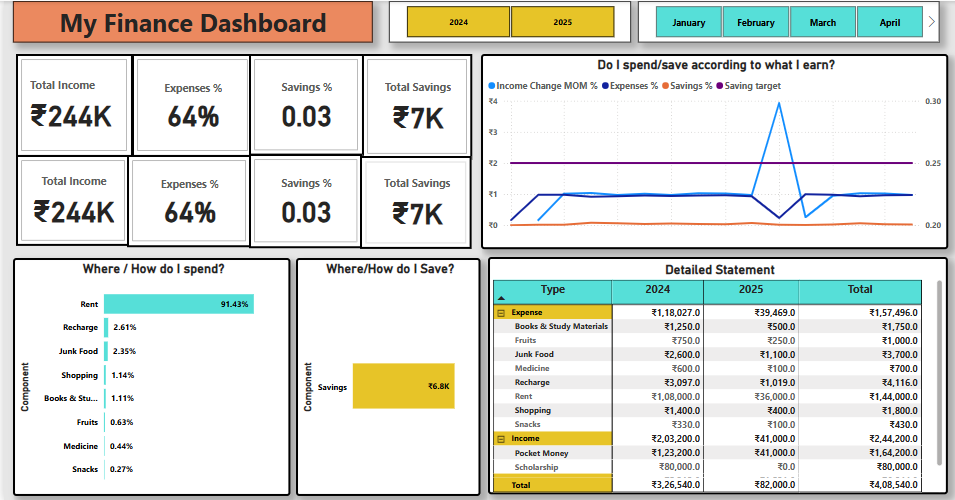

What the dashboard file says about the page in this screenshot:
{"tool":"powerbi","page":{"name":"main","canvas":[1427,744],"ordinal":0},"visuals":[{"type":"cardVisual","fields":{"Data":["findata.Total Income"]},"box":[13.4,80.7,177.6,153.9],"z":0,"group":"g1"},{"type":"slicer","fields":{"Values":["findata.Year.Variation.Date Hierarchy.Year"]},"box":[575.9,0,362.1,62.4],"z":2000},{"type":"cardVisual","fields":{"Data":["findata.Expenses %"]},"box":[191.3,81,181.5,153.8],"z":2000,"group":"g1"},{"type":"slicer","fields":{"Values":["findata.Year.Variation.Date Hierarchy.Month"]},"box":[948.9,0,451.1,62.4],"z":3000},{"type":"cardVisual","fields":{"Data":["findata.Total Savings"]},"box":[535.2,80.4,165.4,157.6],"z":4000,"group":"g1"},{"type":"barChart","title":"Where / How do I spend?","fields":{"Category":["findata.Component"],"Y":["findata.Total Expenses"]},"box":[14,383.9,415.2,355.9],"z":4000},{"type":"barChart","title":"Where/How do I Save?","fields":{"Category":["findata.Component"],"Y":["findata.Total Savings"]},"box":[437,383.9,276.3,355.9],"z":5000},{"type":"cardVisual","fields":{"Data":["findata.Savings %"]},"box":[372.9,81,166.2,156.9],"z":6000,"group":"g1"},{"type":"lineChart","title":"Do I spend/save according to what I earn?","fields":{"Category":["findata.Date"],"Y":["findata.Income Change MOM %","findata.Expenses %","findata.Savings %"],"Y2":["findata.Saving target"]},"box":[714.2,80.4,686,290.2],"z":6000},{"type":"textbox","box":[13.8,0,538.5,61.5],"z":7000},{"type":"cardVisual","fields":{"Data":["findata.Total Income"]},"box":[13.4,224.3,177.6,143.6],"z":7000,"group":"g1"},{"type":"pivotTable","title":"Detailed Statement","fields":{"Rows":["Oreder table.Type","findata.Component"],"Columns":["findata.Date.Variation.Date Hierarchy.Year"],"Values":["findata.Values"]},"box":[724.2,383.9,675,354],"z":8000},{"type":"group","id":"g1","title":"Group 1","box":[13.4,80.4,687.3,289.6],"z":9000},{"type":"cardVisual","fields":{"Data":["findata.Expenses %"]},"box":[185.8,229.5,186,139.9],"z":9000,"group":"g1"},{"type":"cardVisual","fields":{"Data":["findata.Savings %"]},"box":[367.4,228,169.6,141.4],"z":11000,"group":"g1"},{"type":"cardVisual","fields":{"Data":["findata.Total Savings"]},"box":[533.6,231.7,165.2,138.4],"z":12000,"group":"g1"}]}

Visuals, with their boxes in screenshot pixels (x1, y1, x2, y2), scaled from the page's 1427x744 canvas onto the 955x500 screenshot:
cardVisual - findata.Total Income: crop(9, 54, 128, 158)
slicer - findata.Year.Variation.Date Hierarchy.Year: crop(385, 0, 628, 42)
cardVisual - findata.Expenses %: crop(128, 54, 249, 158)
slicer - findata.Year.Variation.Date Hierarchy.Month: crop(635, 0, 937, 42)
cardVisual - findata.Total Savings: crop(358, 54, 469, 160)
"Where / How do I spend?" barChart: crop(9, 258, 287, 497)
"Where/How do I Save?" barChart: crop(292, 258, 477, 497)
cardVisual - findata.Savings %: crop(250, 54, 361, 160)
"Do I spend/save according to what I earn?" lineChart: crop(478, 54, 937, 249)
textbox: crop(9, 0, 370, 41)
cardVisual - findata.Total Income: crop(9, 151, 128, 247)
"Detailed Statement" pivotTable: crop(485, 258, 936, 496)
"Group 1" group: crop(9, 54, 469, 249)
cardVisual - findata.Expenses %: crop(124, 154, 249, 248)
cardVisual - findata.Savings %: crop(246, 153, 359, 248)
cardVisual - findata.Total Savings: crop(357, 156, 468, 249)
